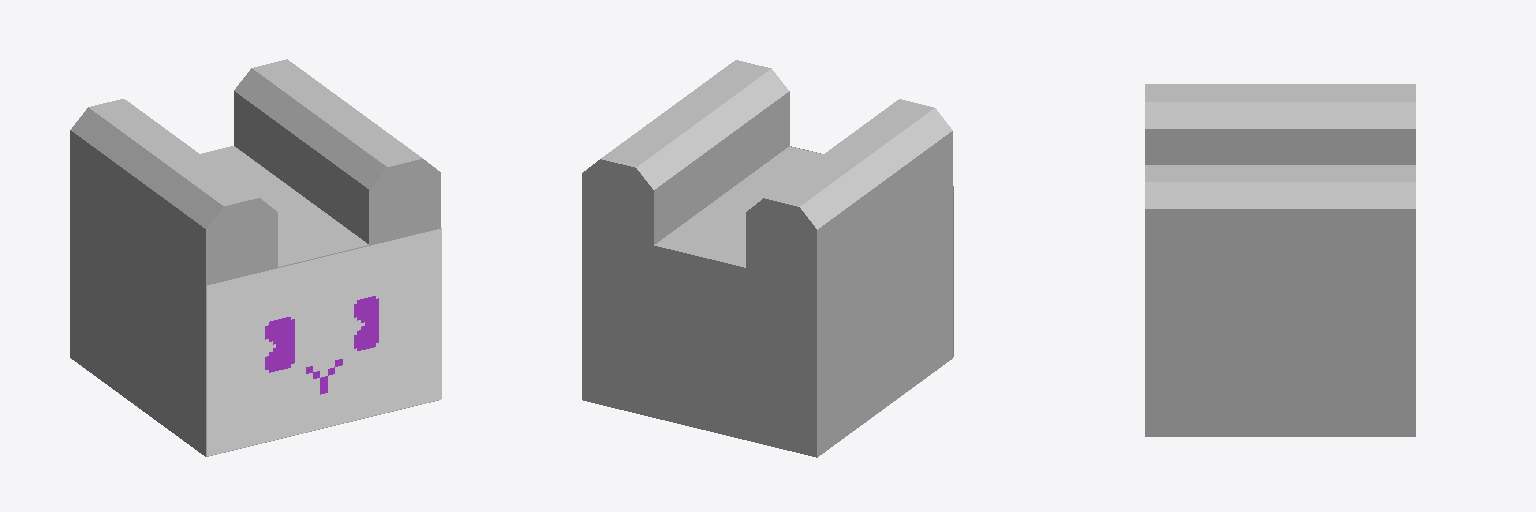
3 renders of one model, left to right at view 1: azimuth 30°, elevation 25°; view 2: azimuth 150°, elevation 25°; view 3: azimuth 270°, elevation 25°, orthographic.
Visible parts, largest first — view 1: Cube, 平面; view 2: Cube; view 3: Cube.
Boxes of the visible parts, x1,y1,x2,y2 form: Cube: [70, 59, 440, 456]; 平面: [207, 228, 441, 455]; Cube: [582, 60, 952, 457]; Cube: [1145, 84, 1415, 436].
Size of the model in its own units: 2 by 2 by 2.01.
Materials: 2 (1 with a texture image).